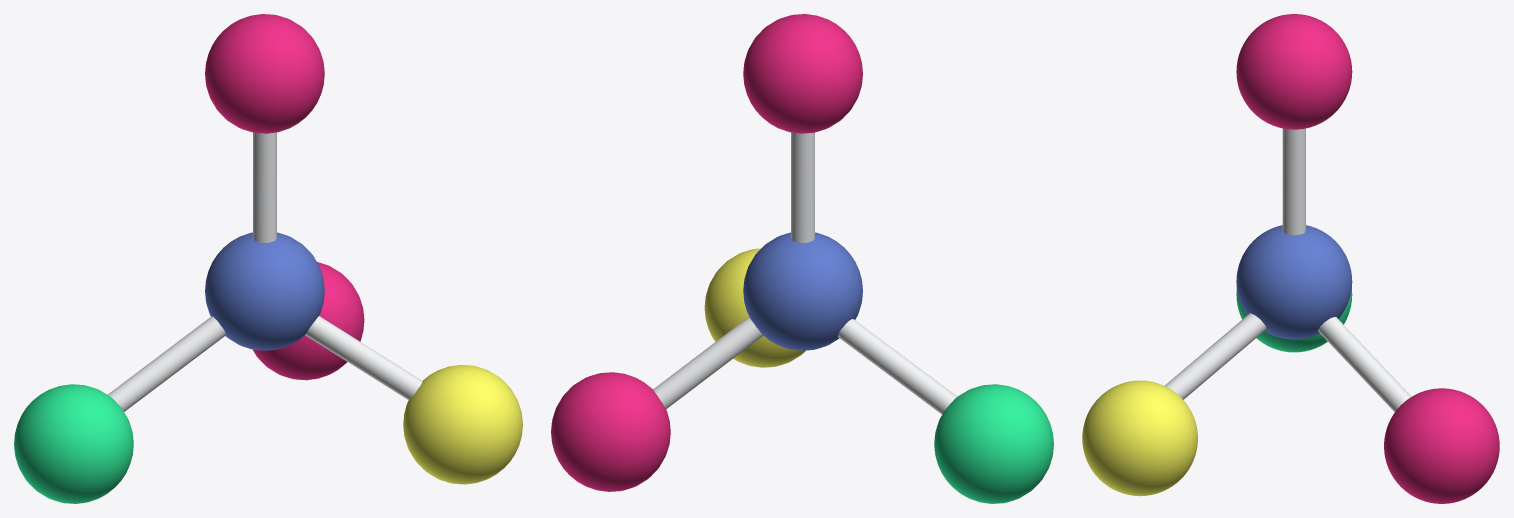
File: asset.glb
3 renders of one model, left to right at view 1: azimuth 30°, elevation 25°; view 2: azimuth 150°, elevation 25°; view 3: azimuth 270°, elevation 25°, orthographic. The views are drawn at different scales.
Parts seen in each view (by area): view 1: 3DGeom-6 (×3), 3DGeom-2, 3DGeom-1; view 2: 3DGeom-6 (×3), 3DGeom-2, 3DGeom-1; view 3: 3DGeom-6 (×3), 3DGeom-2, 3DGeom-1.
Part boxes in pixels (x1=…): 3DGeom-6 (×3): x1=14, y1=232, x2=522, y2=503; 3DGeom-2: x1=205, y1=14, x2=364, y2=380; 3DGeom-1: x1=107, y1=132, x2=422, y2=411; 3DGeom-6 (×3): x1=704, y1=232, x2=1053, y2=503; 3DGeom-2: x1=551, y1=14, x2=862, y2=491; 3DGeom-1: x1=653, y1=132, x2=957, y2=414; 3DGeom-6 (×3): x1=1082, y1=225, x2=1352, y2=496; 3DGeom-2: x1=1236, y1=14, x2=1499, y2=503; 3DGeom-1: x1=1164, y1=128, x2=1411, y2=412.
Bounding box in the file's own units: 0.7965 × 0.8092 × 0.7212.
